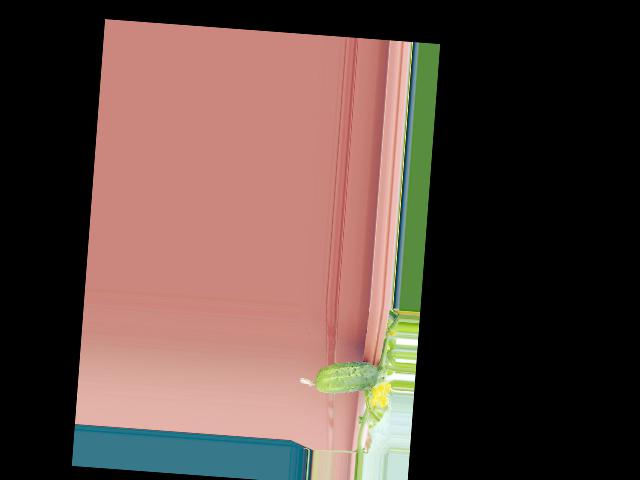cucumber: (298, 357, 379, 397)
